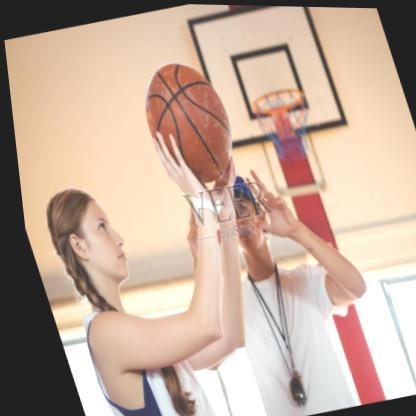basketball: (128, 54, 244, 190)
